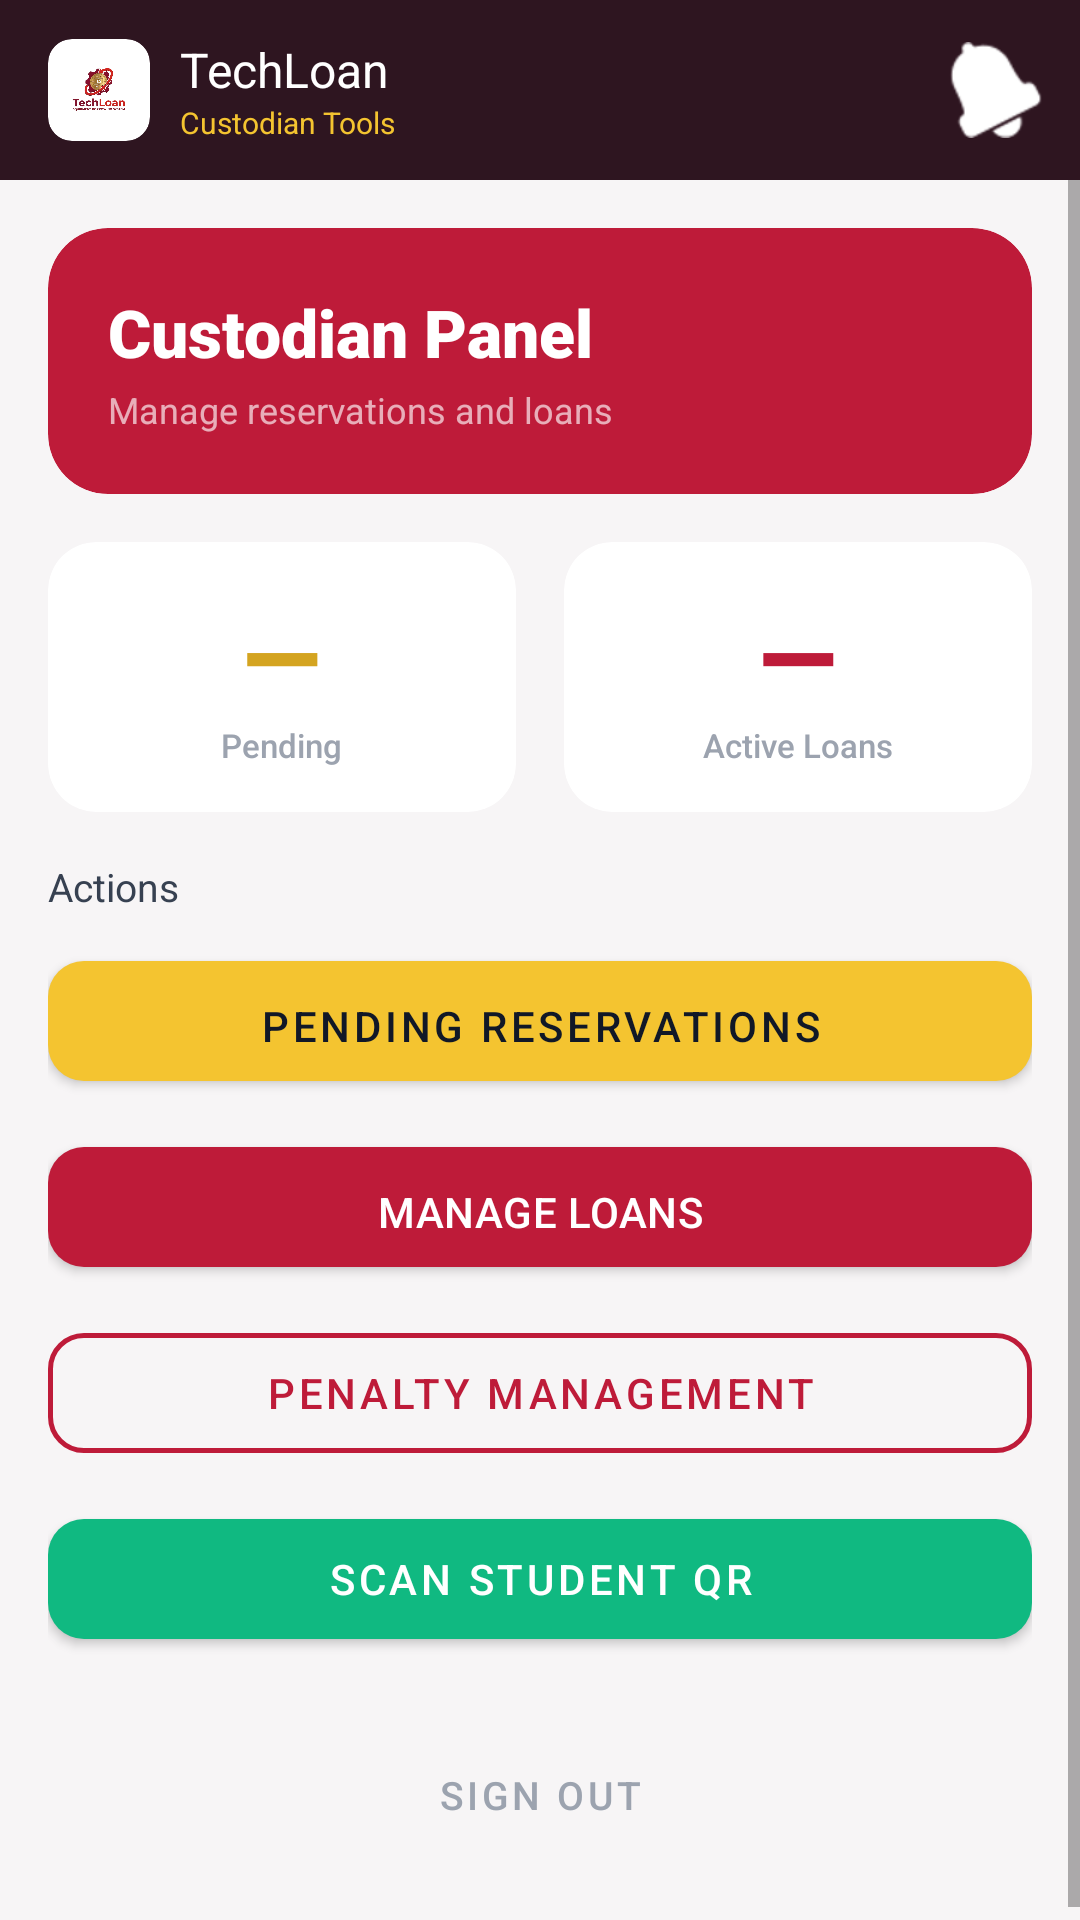

Where icons sit on this 1080×1920 app screen, as (x1, y1, x2, y2):
Notifications: (951, 42, 1041, 138)
